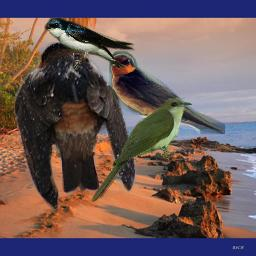Cuckoo: (91, 98, 193, 204)
Swallow: (14, 42, 137, 211), (109, 51, 225, 134), (44, 17, 137, 72)
